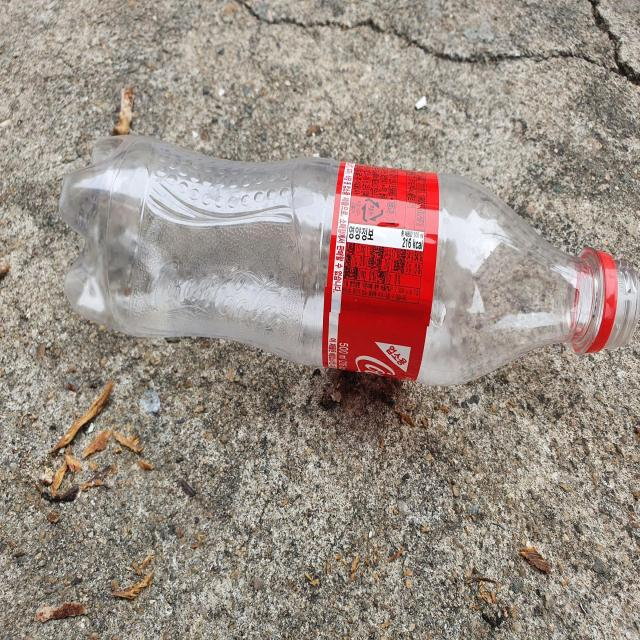plastic: (58, 135, 640, 385)
